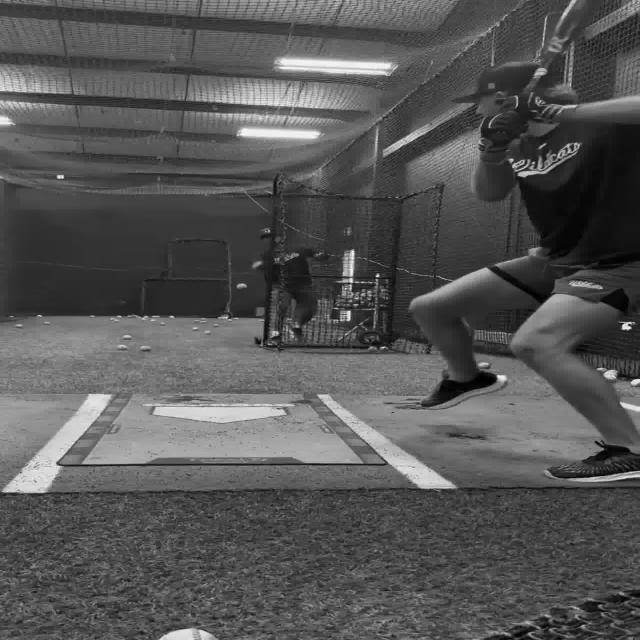base: (153, 404, 290, 423)
baseball: (159, 628, 218, 639), (602, 369, 618, 382), (477, 362, 490, 369), (629, 378, 639, 386), (139, 345, 151, 351), (236, 284, 246, 290), (116, 345, 128, 350), (596, 367, 606, 372), (121, 335, 131, 339), (15, 324, 23, 328), (203, 330, 211, 334), (159, 322, 166, 326), (36, 314, 42, 318), (168, 315, 174, 319), (212, 323, 218, 327), (192, 327, 198, 330), (44, 322, 50, 324), (88, 315, 94, 317)
bat: (519, 0, 602, 111)
shoe: (542, 440, 638, 483), (419, 369, 507, 410)
